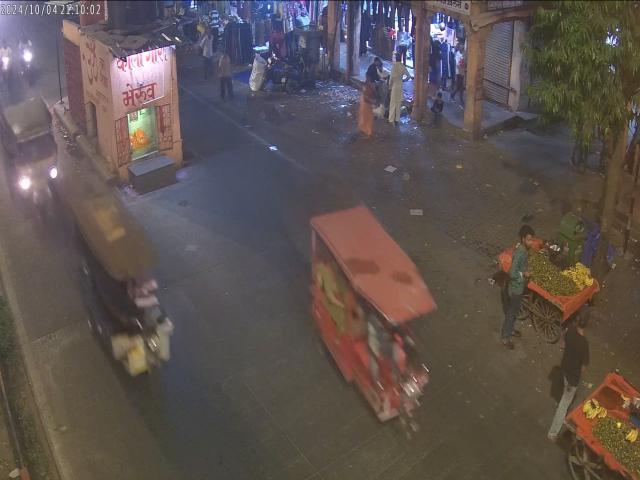auto: (304, 208, 443, 442), (61, 196, 179, 379), (0, 103, 76, 223)
person: (509, 220, 534, 350)
vendor: (488, 233, 600, 336), (548, 369, 640, 480)
